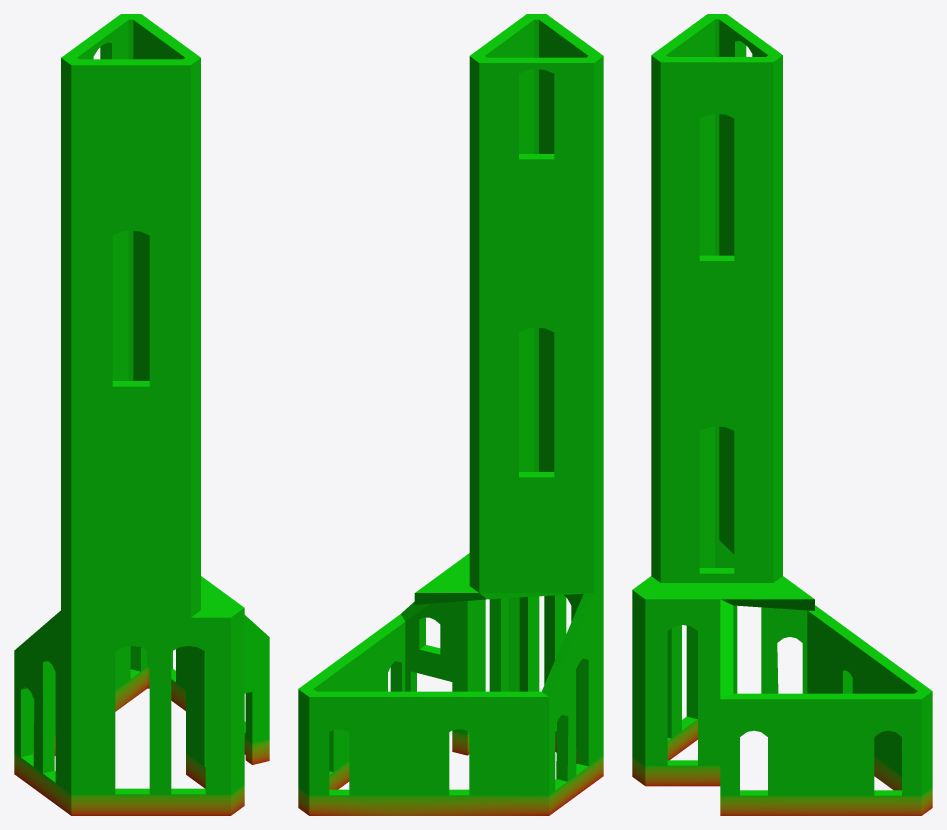
Rendered from Lighthouse_Walls_col.fbx.
3 renders of one model, left to right at view 1: azimuth 30°, elevation 25°; view 2: azimuth 150°, elevation 25°; view 3: azimuth 270°, elevation 25°, orthographic. The views are drawn at different scales.
Parts seen in each view (by area): view 1: Lighthouse_Walls_col; view 2: Lighthouse_Walls_col; view 3: Lighthouse_Walls_col.
Boxes of the visible parts, x1,y1,x2,y2 form: Lighthouse_Walls_col: (14,14,269,815); Lighthouse_Walls_col: (298,14,603,815); Lighthouse_Walls_col: (632,14,932,815).
Size of the model in its own units: 866 by 3030 by 1165.
